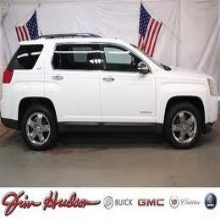no damage: (1, 33, 220, 150)
